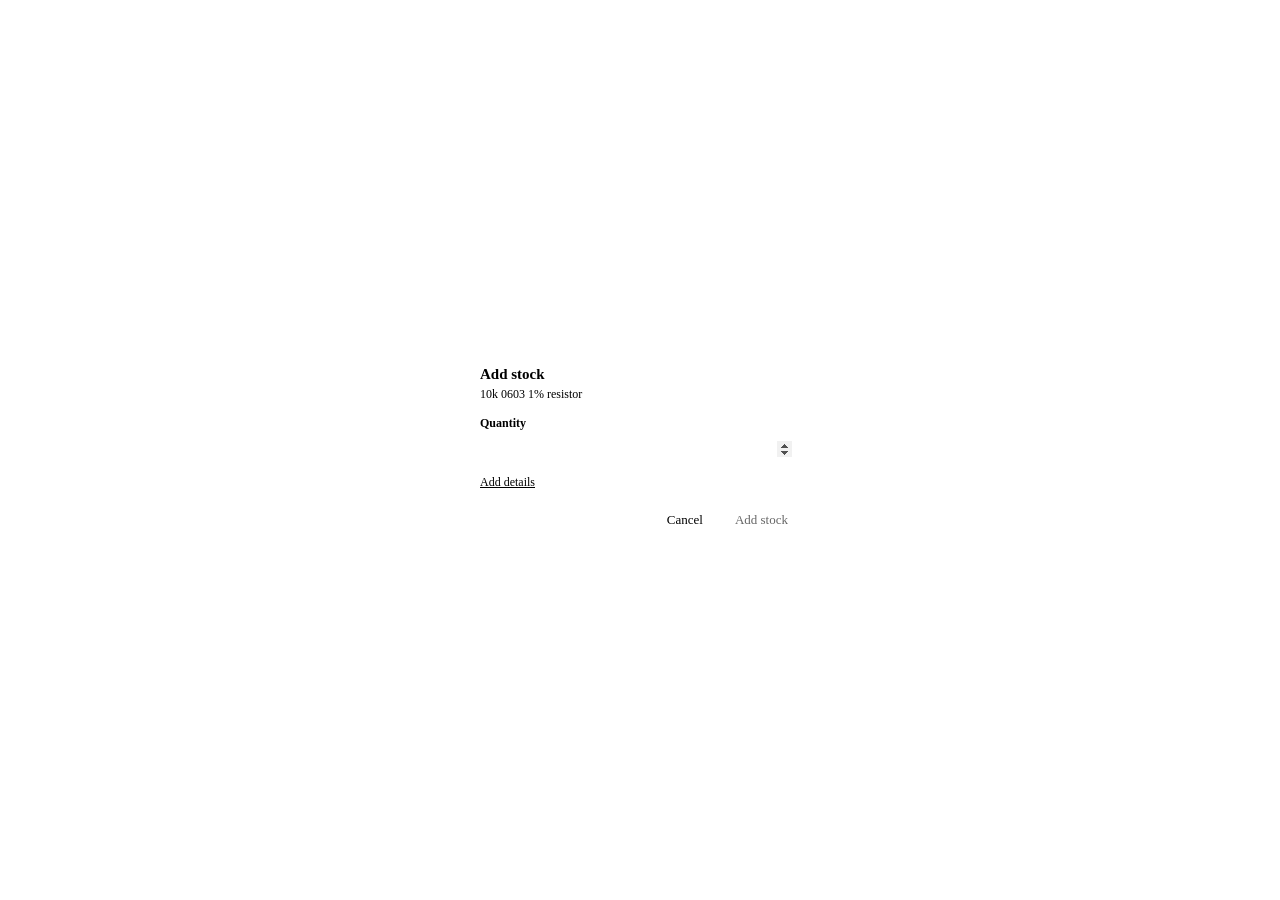
Test: QuickAction — preselected part, no project needed (Add stock) › shows a live "remaining after" preview computed from current stock
Type "10" into the number field labelled "Quantity" at [640, 449], box top-left (480, 435), bottom-right (800, 463)
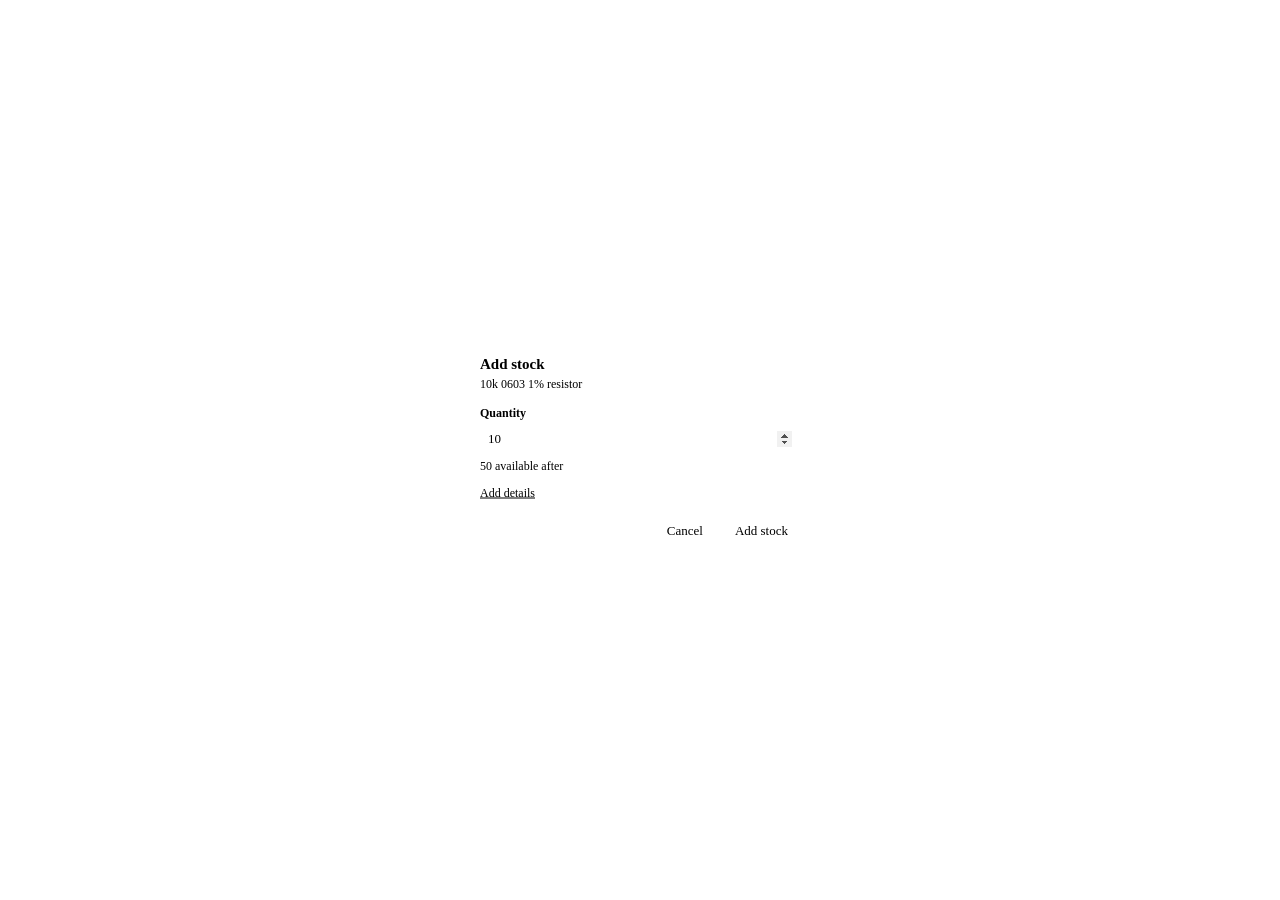
expect the text "50 available after" is shown: met, box top-left (480, 458), bottom-right (563, 472)
Replace the text in the number field labelled "Quantity" with "25" at [640, 438], box top-left (480, 424), bottom-right (800, 452)
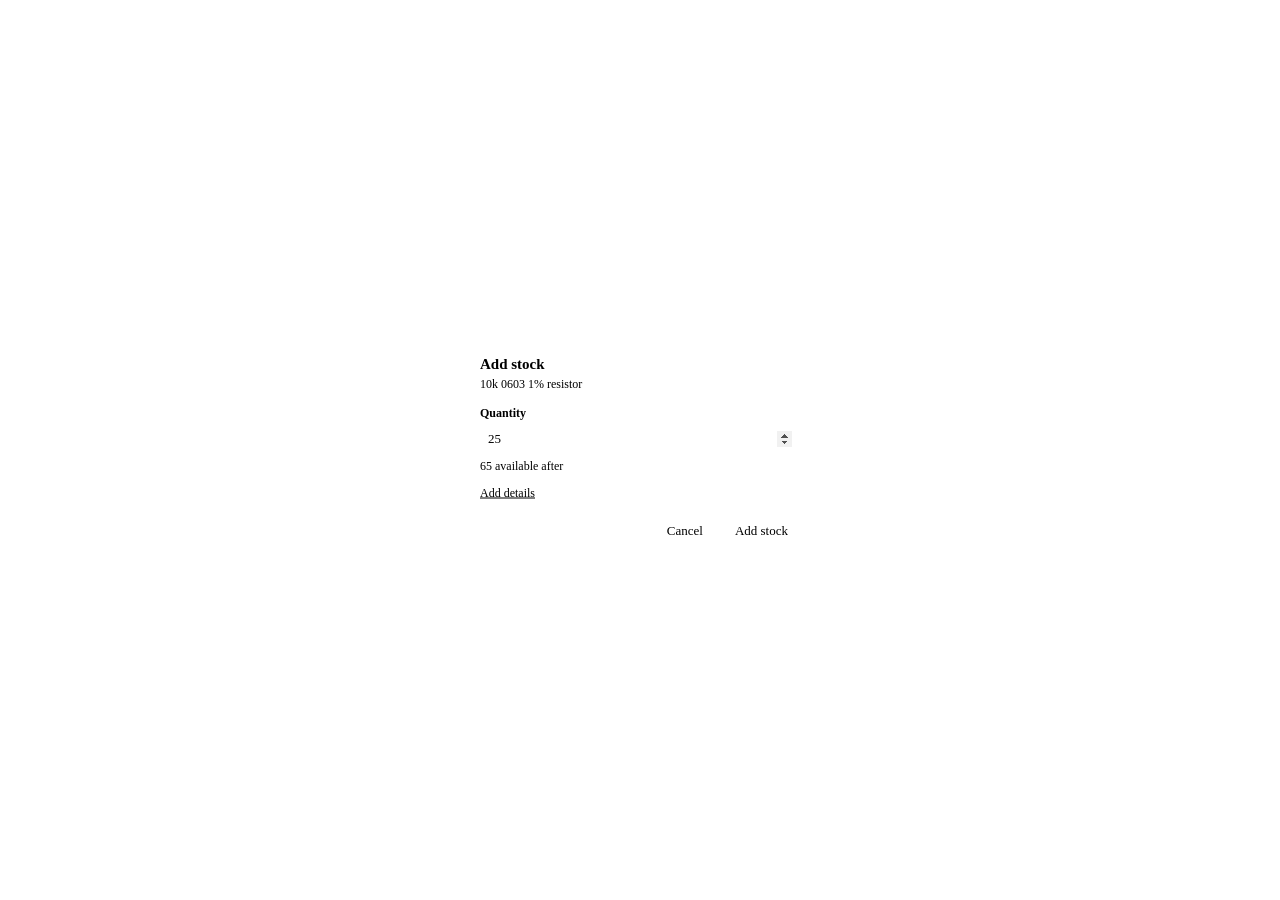
expect the text "65 available after" is shown: met, box top-left (480, 458), bottom-right (563, 472)
